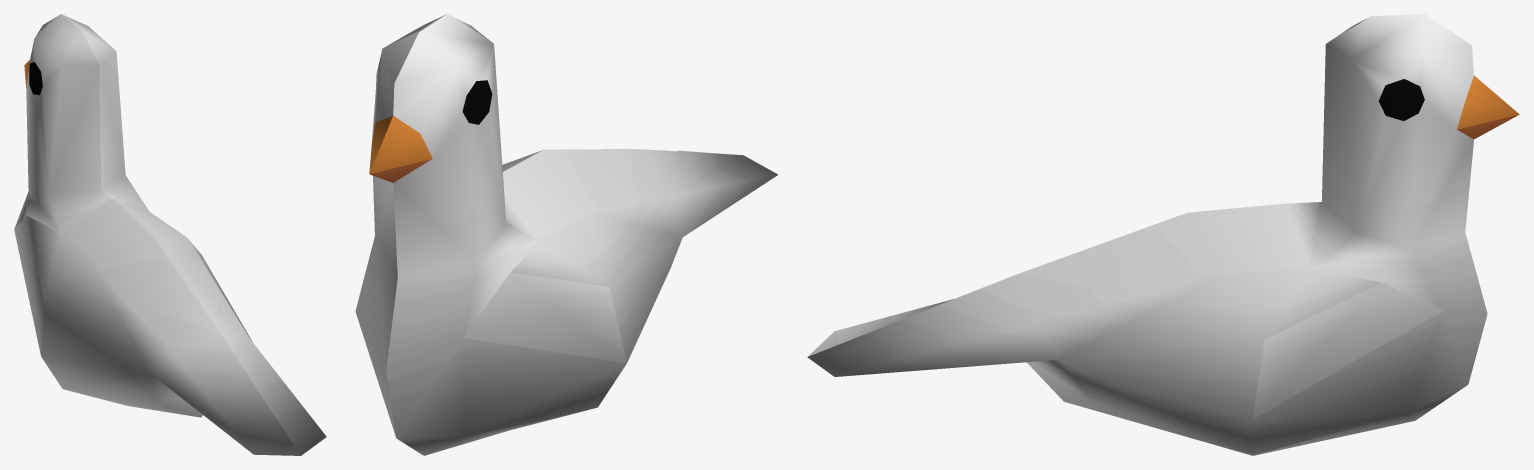
File: 0.00_Generic_flyingBirdWhite.glb
3 views of the same model, side by side, from view 1: azimuth 30°, elevation 25°; view 2: azimuth 150°, elevation 25°; view 3: azimuth 270°, elevation 25° (orthographic). The views are drawn at different scales.
Parts seen in each view (by area): view 1: flyingBird_body_mesh_mesh; view 2: flyingBird_body_mesh_mesh; view 3: flyingBird_body_mesh_mesh.
Part boxes in pixels (x1=…): flyingBird_body_mesh_mesh: x1=14, y1=14, x2=326, y2=455; flyingBird_body_mesh_mesh: x1=355, y1=14, x2=777, y2=455; flyingBird_body_mesh_mesh: x1=807, y1=14, x2=1519, y2=455.
Size of the model in its own units: 2.66 by 5.01 by 7.32.
1 material, 1 textured.
